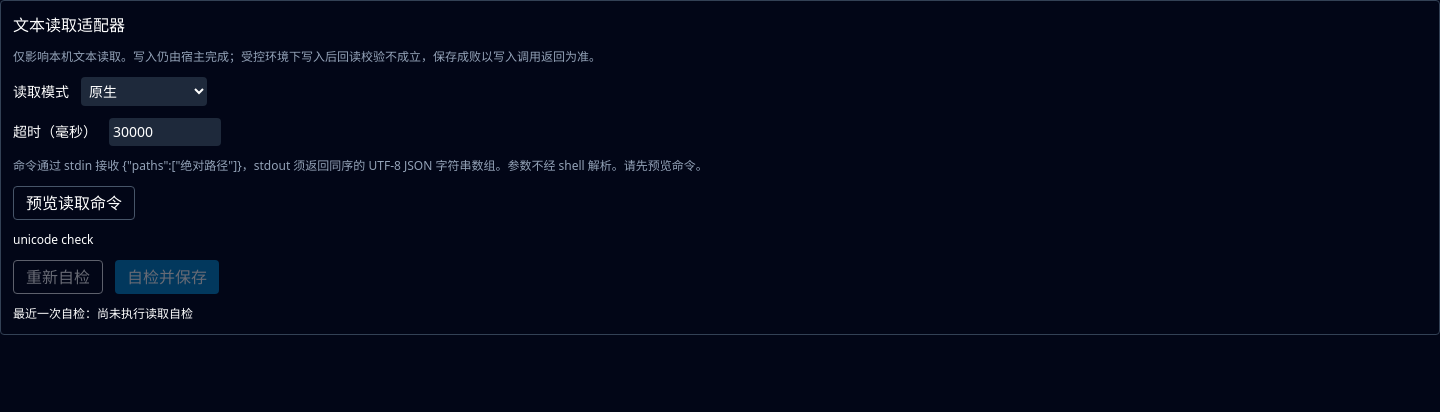
Scenario: requires preview, saves only after self-check and notifies failed startup readers
Expected: the button "自检并保存" is disabled, x1=115 y1=260 x2=219 y2=294
Step 1. Click the button "预览读取命令" → (74,203), box x1=13 y1=186 x2=135 y2=220
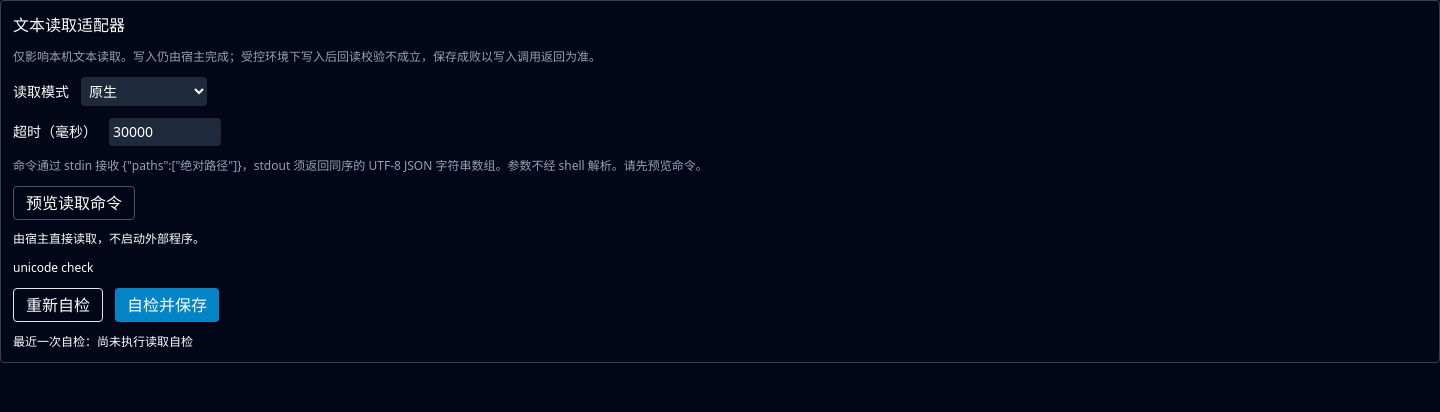
Step 2. Click the button "自检并保存" → (167,305), box x1=115 y1=288 x2=219 y2=322
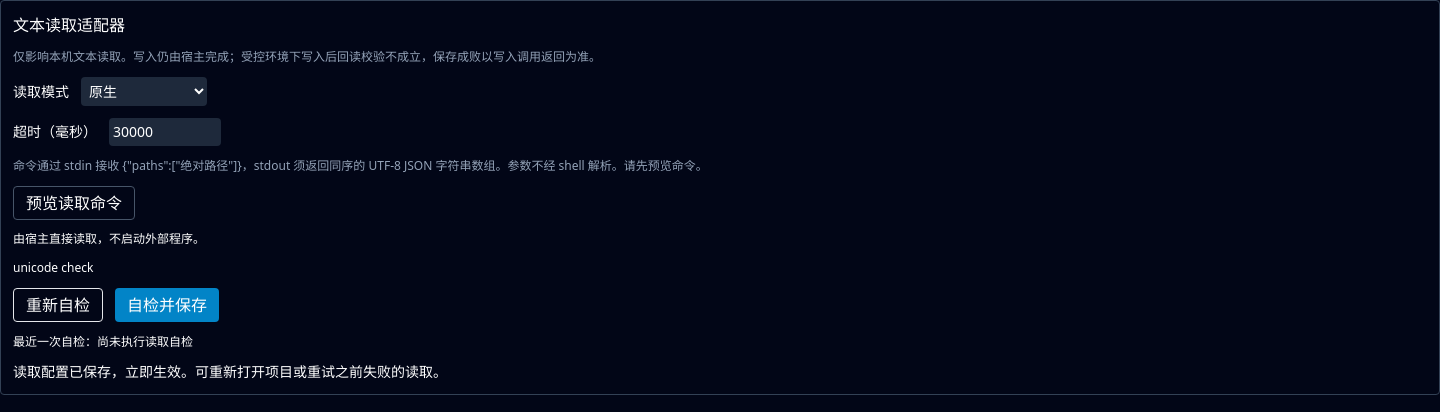
Now the text "读取配置已保存，立即生效。可重新打开项目或重试之前失败的读取。" is shown, box x1=13 y1=362 x2=447 y2=381
